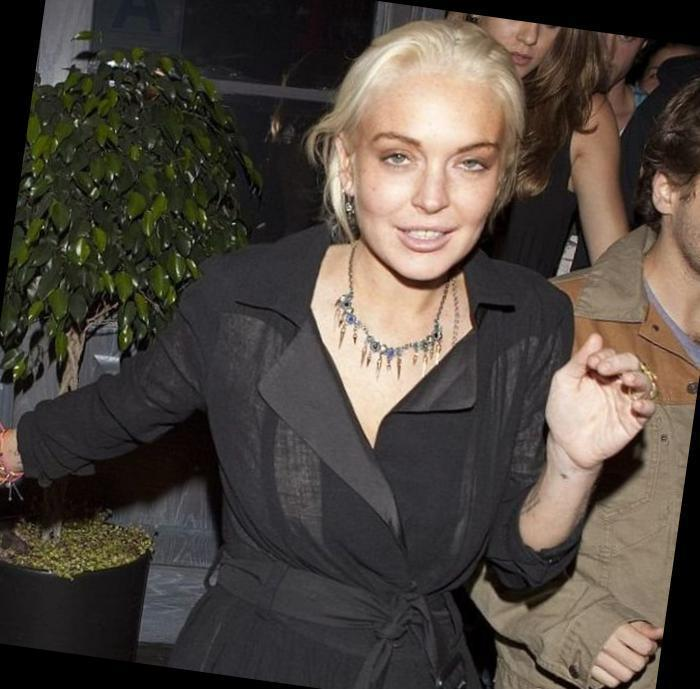Drunk: (365, 77, 493, 274)
